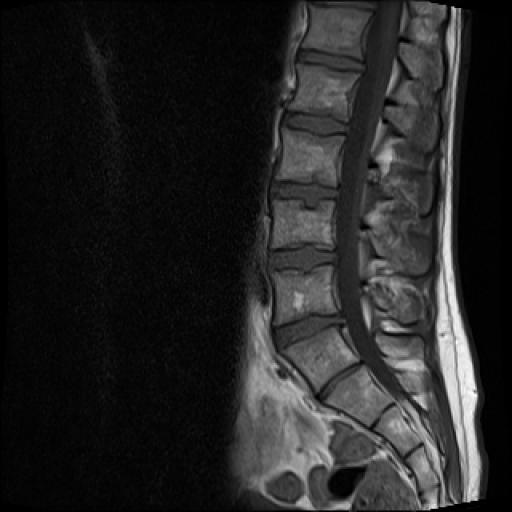L1: (287, 63, 359, 122)
L2: (275, 127, 344, 186)
L3: (274, 200, 332, 250)
L4: (273, 265, 338, 326)
L5: (282, 326, 359, 392)
S1: (319, 366, 392, 426)
